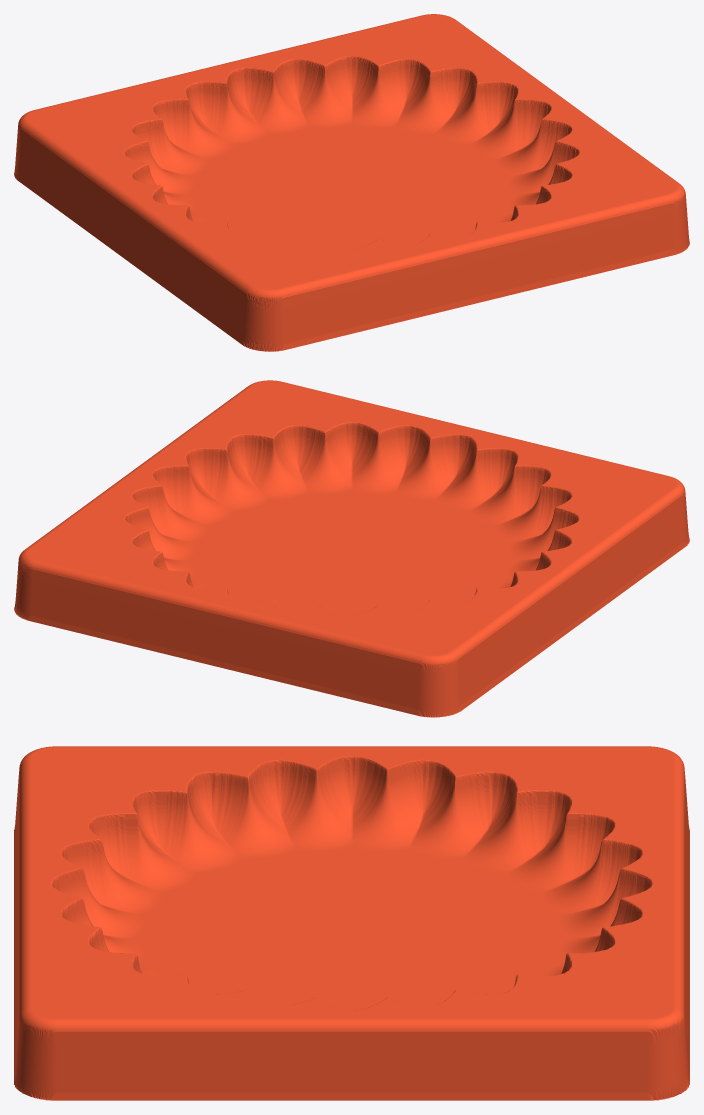
The model's file is mold.glb.
3 views of the same model, one above another, from view 1: azimuth 30°, elevation 25°; view 2: azimuth 150°, elevation 25°; view 3: azimuth 270°, elevation 25° (orthographic). The views are drawn at different scales.
Parts seen in each view (by area): view 1: geometry_0; view 2: geometry_0; view 3: geometry_0.
Part boxes in pixels (x1,y1,x2,y2): geometry_0: [14, 14, 689, 351]; geometry_0: [14, 380, 689, 717]; geometry_0: [14, 746, 689, 1100].
Bounding box in the file's own units: 0.1435 × 0.0175 × 0.1435.
